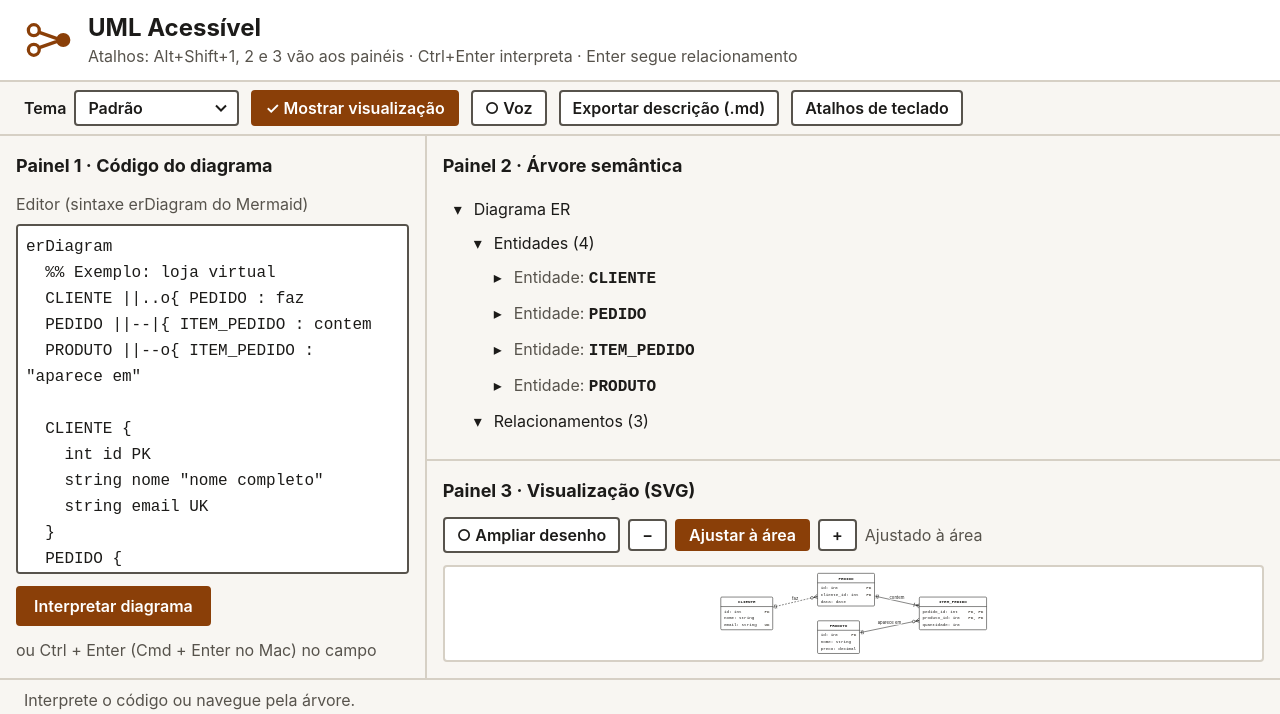
Test: App › com a voz ligada, fala o item focado na árvore e os anúncios, na velocidade escolhida
The width and height of the screenshot is (1280, 714).
Later steps or results of the test are not shown.
Click the button "○ Voz" at (509, 108), box [471,90,546,126]
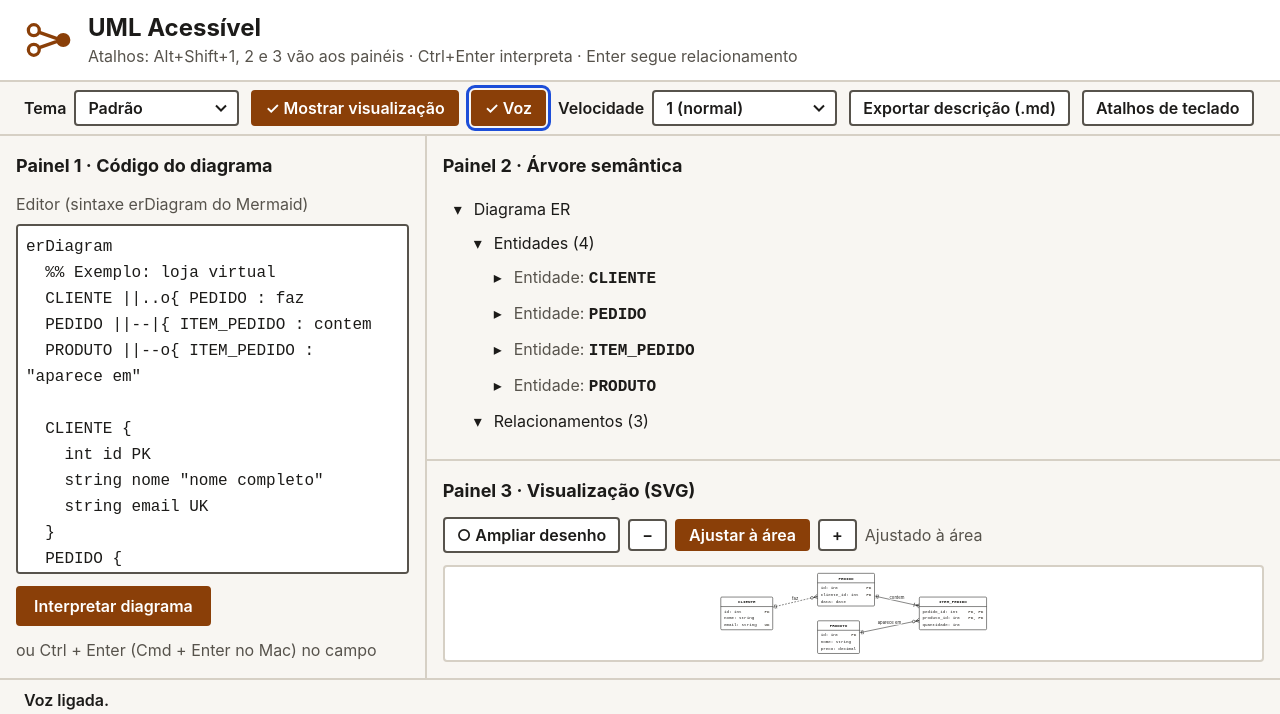
Result: the 1st text "Voz ligada." is shown at [24,690,109,710]
